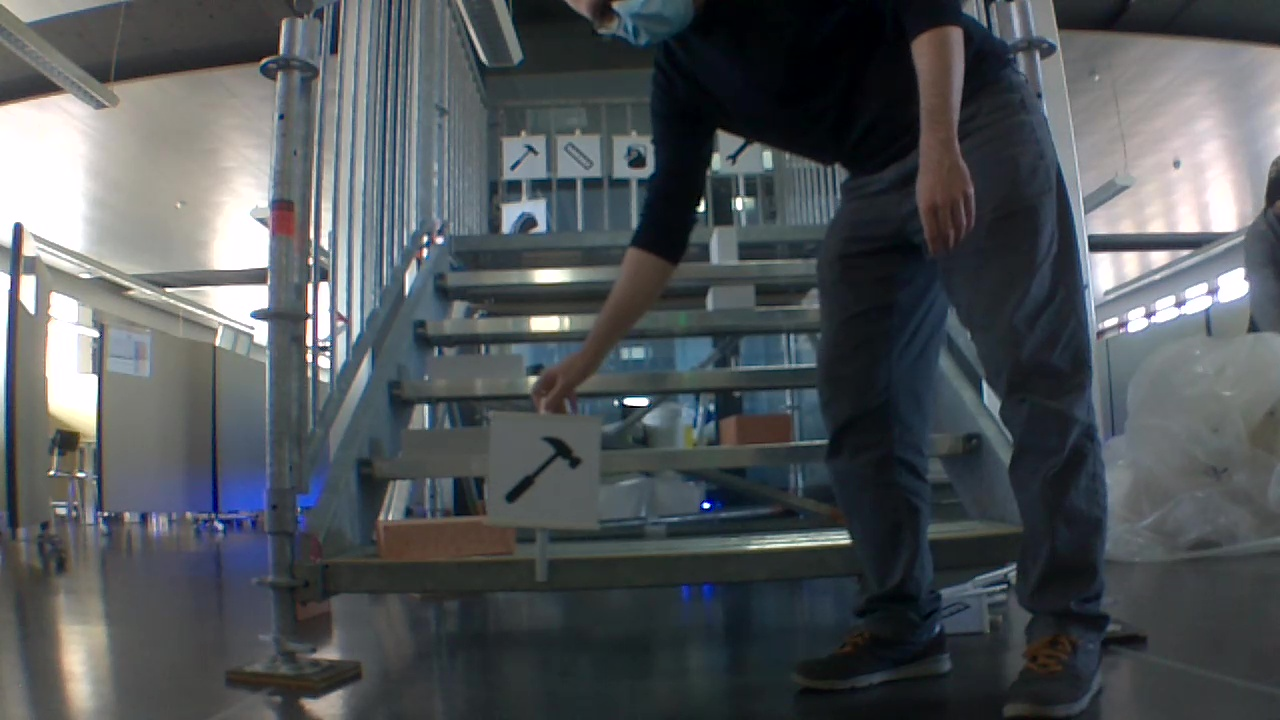brick: (374, 514, 511, 562), (428, 352, 524, 377), (404, 428, 487, 456), (720, 414, 792, 444), (708, 286, 755, 309), (710, 226, 737, 263)
bucket: (618, 140, 651, 174)
hammer: (496, 426, 586, 515), (505, 140, 541, 174)
ruler: (562, 137, 595, 173)
taco: (507, 205, 539, 232)
